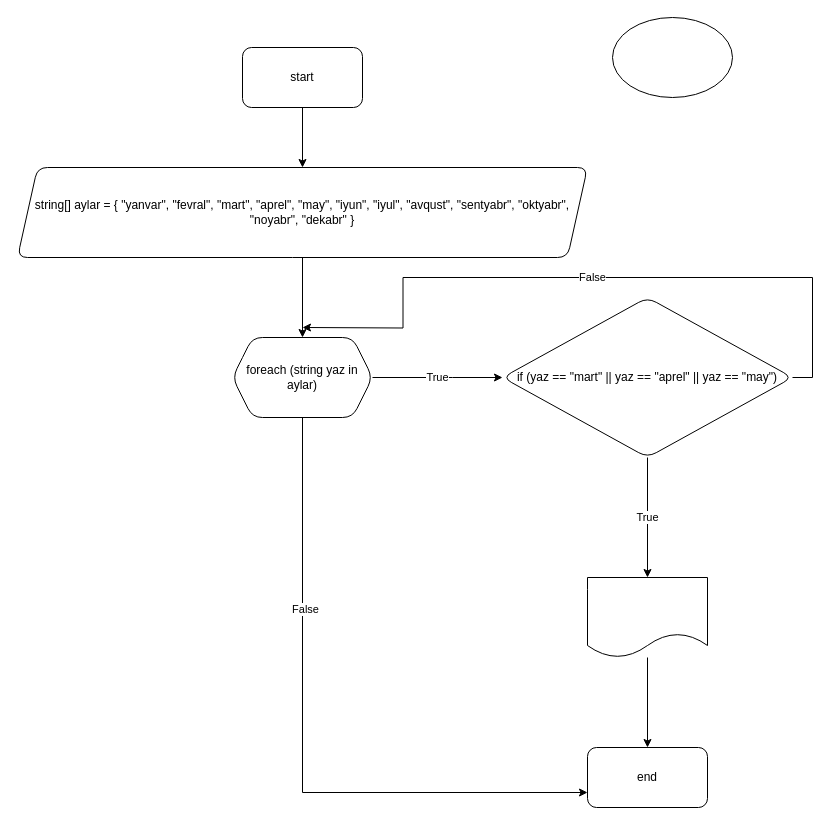
Some shapes in this 838 by 825 pixel diagram are drawn without their labels. The shapes that lost their labels are listed below. From the top down, each one's centre as x and y in pixels, then its label:
the point at 672,57: TASK-4
the point at 647,617: $"{ay} yaz ayıdır"
